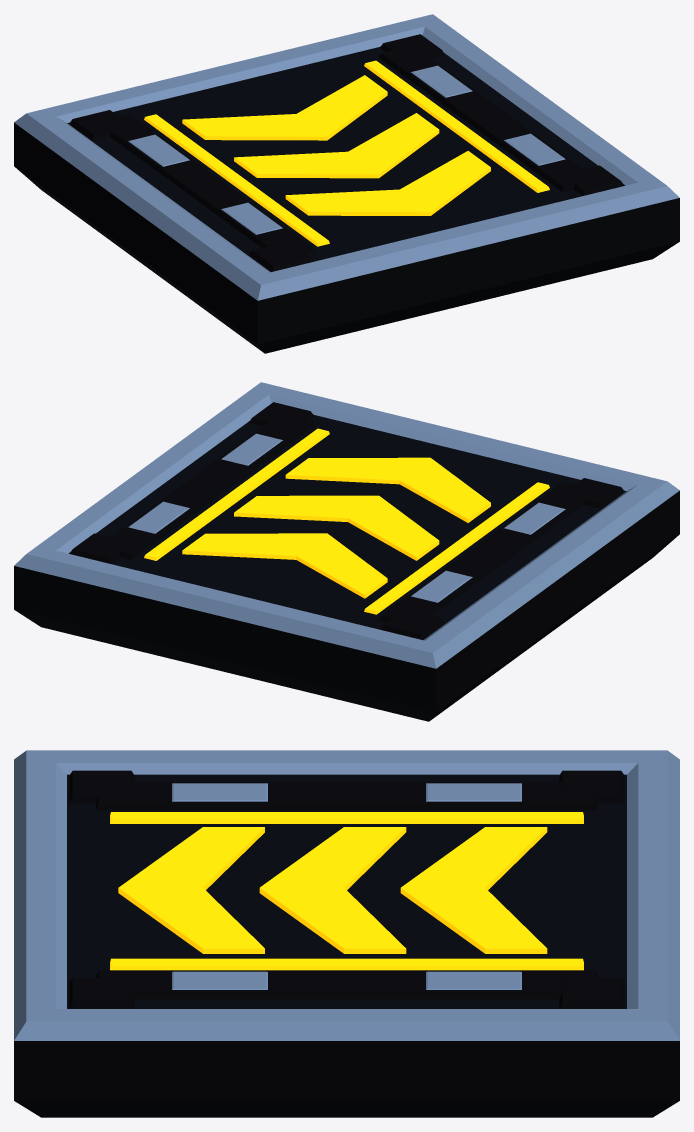
The model's file is SM_ArenaTile_05_BoostRunway.glb.
3 views of the same model, one above another, from view 1: azimuth 30°, elevation 25°; view 2: azimuth 150°, elevation 25°; view 3: azimuth 270°, elevation 25° (orthographic). The views are drawn at different scales.
Visible parts, largest first — view 1: Part_MAT_DarkNeutral, Part_MAT_LightTrim, Part_MAT_AltNeutral, Part_EMI_Kinetic; view 2: Part_MAT_DarkNeutral, Part_MAT_LightTrim, Part_MAT_AltNeutral, Part_EMI_Kinetic; view 3: Part_MAT_DarkNeutral, Part_MAT_LightTrim, Part_MAT_AltNeutral, Part_EMI_Kinetic.
Part boxes in pixels (bbox=[...]): Part_MAT_DarkNeutral: bbox=[14, 34, 679, 353]; Part_MAT_LightTrim: bbox=[14, 14, 679, 300]; Part_MAT_AltNeutral: bbox=[67, 46, 624, 271]; Part_EMI_Kinetic: bbox=[144, 60, 549, 246]; Part_MAT_DarkNeutral: bbox=[14, 402, 679, 721]; Part_MAT_LightTrim: bbox=[14, 382, 679, 668]; Part_MAT_AltNeutral: bbox=[69, 414, 626, 639]; Part_EMI_Kinetic: bbox=[144, 428, 549, 614]; Part_MAT_DarkNeutral: bbox=[14, 770, 679, 1117]; Part_MAT_LightTrim: bbox=[14, 750, 679, 1040]; Part_MAT_AltNeutral: bbox=[67, 774, 626, 1008]; Part_EMI_Kinetic: bbox=[110, 812, 583, 970].
Bounding box in the file's own units: 11.8 × 2 × 11.8.
4 materials, 4 textured.
